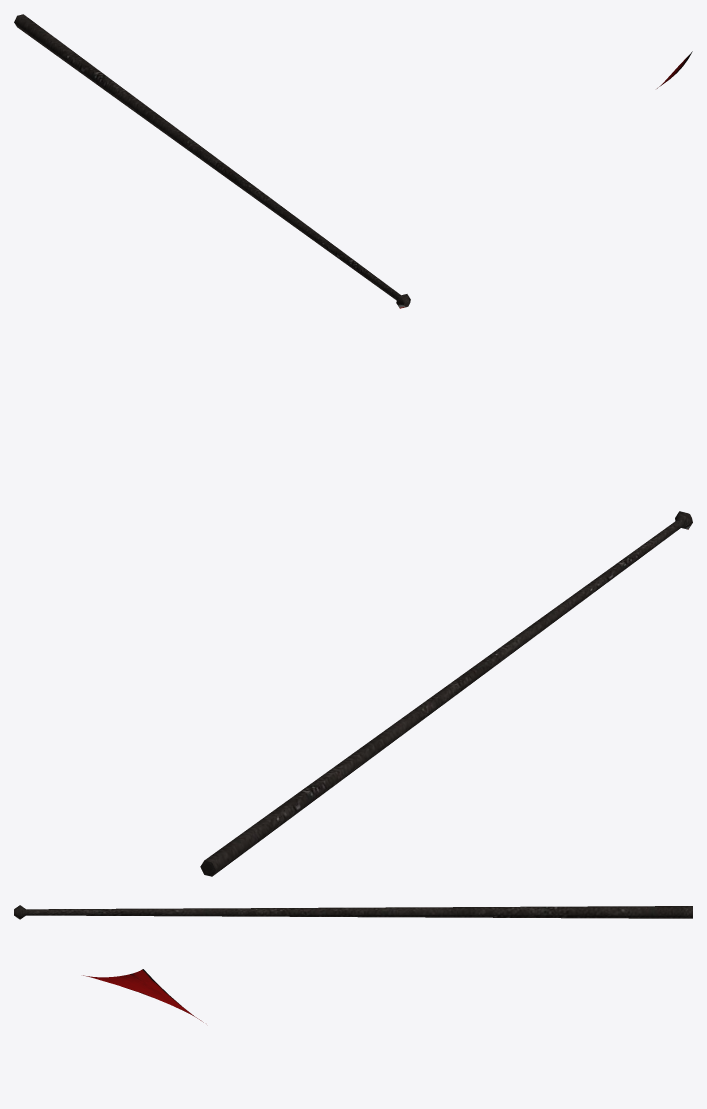
The model's file is prop_flag_russian.glb.
3 renders of one model, top to bottom at view 1: azimuth 30°, elevation 25°; view 2: azimuth 150°, elevation 25°; view 3: azimuth 270°, elevation 25°, orthographic. The views are drawn at different scales.
Bounding box in the file's own units: 54.75 × 22.02 × 97.19.
1 material, 1 textured.
